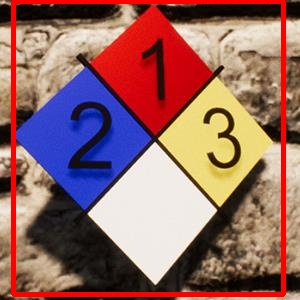nfpa: (13, 1, 283, 294)
